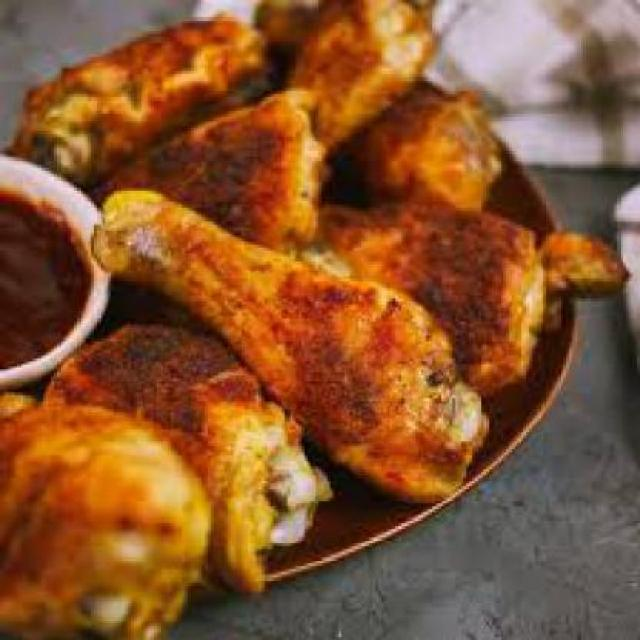Frango: (2, 8, 575, 634)
